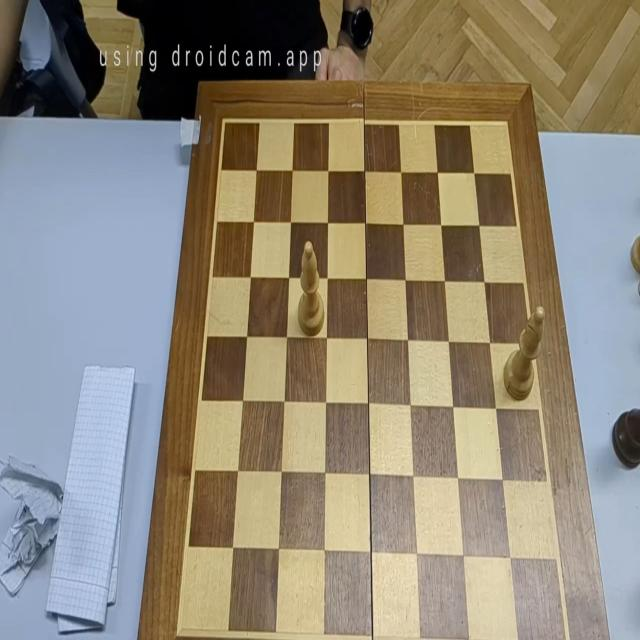white_bishop: (504, 306, 545, 399), (298, 241, 325, 336)
